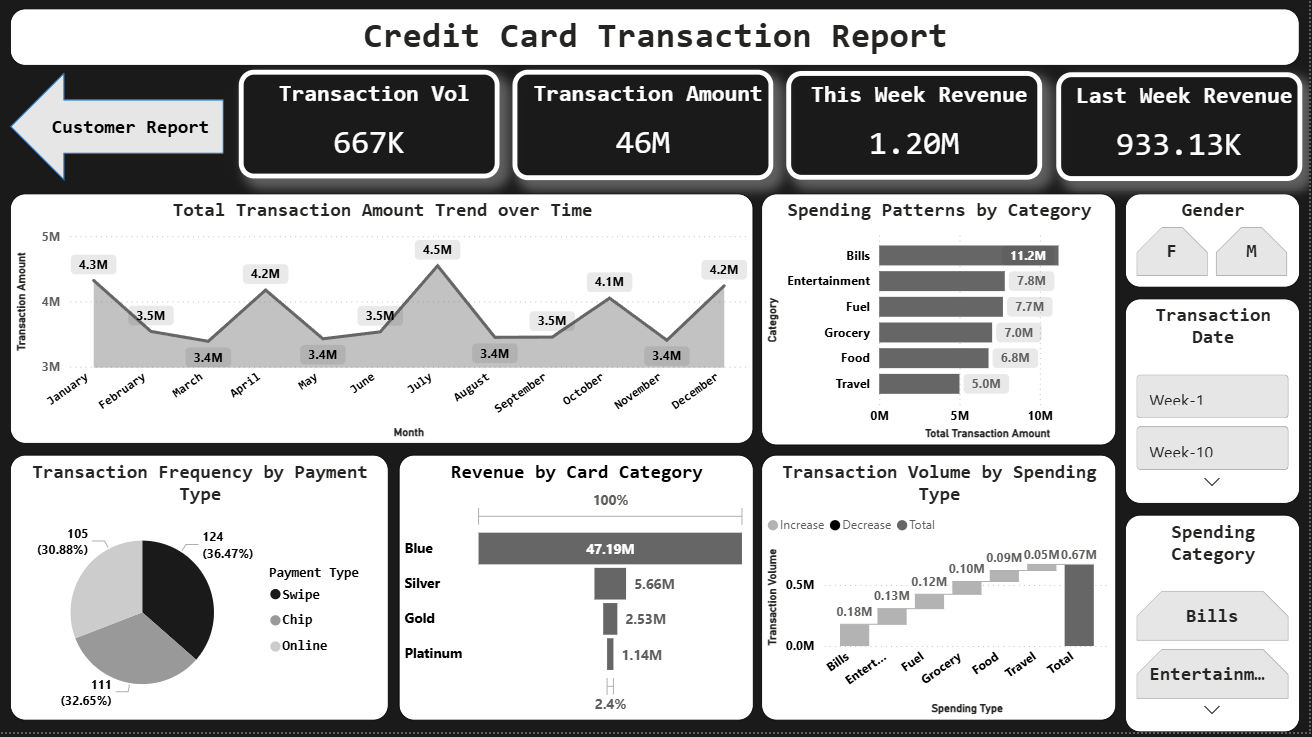

What the dashboard file says about the page in this screenshot:
{"tool":"powerbi","page":{"name":"Page 2","canvas":[1280,720],"ordinal":1},"visuals":[{"type":"textbox","title":"Credit Card Transaction Report","box":[9.8,12.8,1262,56.3],"z":0},{"type":"advancedSlicerVisual","fields":{"Values":["customer.Gender"]},"box":[1100.5,193.2,171.2,91.7],"z":1000},{"type":"card","title":"Transaction Vol","fields":{"Values":["Sum(Sheet1.Total_Trans_Vol)"]},"box":[233.6,72.1,255.6,106.4],"z":2000},{"type":"card","title":"Transaction Amount","fields":{"Values":["Sum(Sheet1.Total_Trans_Amt)"]},"box":[501.4,72.1,255.6,107.6],"z":3000},{"type":"card","title":"This Week Revenue","fields":{"Values":["Sheet1.cur_week_revenue"]},"box":[769.4,73.4,250.7,106.4],"z":4000},{"type":"card","title":"Last Week Revenue","fields":{"Values":["Sheet1.previous_week_revenue"]},"box":[1033.5,74.6,240.9,106.4],"z":5000},{"type":"advancedSlicerVisual","fields":{"Values":["Sheet1.Week_Num"]},"box":[1100.5,295.9,171.2,200.5],"z":6000},{"type":"advancedSlicerVisual","fields":{"Values":["Sheet1.Exp Type"]},"box":[1100.5,507.2,171.1,213],"z":7000},{"type":"shape","box":[9.8,74.6,209.1,106.4],"z":8000},{"type":"lineChart","title":"Total Transaction Amount Trend over Time","fields":{"Category":["Sheet1.Week_Start_Date.Variation.Date Hierarchy.Month"],"Y":["Sum(Sheet1.Total_Trans_Amt)"]},"box":[9.8,193.3,727.5,245],"z":9000},{"type":"pieChart","fields":{"Category":["Sheet1.Use Chip"],"Y":["Count(Sheet1.Total_Trans_Vol)"]},"box":[9.8,449.3,370.5,259.7],"z":10000},{"type":"funnel","fields":{"Category":["Sheet1.Card_Category"],"Y":["Sheet1.Total Revenue"]},"box":[390.2,449.3,347.1,259.7],"z":11000},{"type":"waterfallChart","fields":{"Category":["Sheet1.Exp Type"],"Y":["Sum(Sheet1.Total_Trans_Vol)"]},"box":[744.8,449.3,347.1,259.7],"z":12000},{"type":"barChart","title":"Spending Patterns by Category","fields":{"Category":["Sheet1.Exp Type"],"Y":["Sum(Sheet1.Total_Trans_Amt)"]},"box":[744.8,193.3,347.1,246.2],"z":13000}]}

Visuals, with their boxes in screenshot pixels (x1, y1, x2, y2), scaled from the page's 1280x720 canvas onto the 1312x737 screenshot:
"Credit Card Transaction Report" textbox: {"x1": 10, "y1": 13, "x2": 1304, "y2": 71}
advancedSlicerVisual - customer.Gender: {"x1": 1128, "y1": 198, "x2": 1303, "y2": 292}
"Transaction Vol" card: {"x1": 239, "y1": 74, "x2": 501, "y2": 183}
"Transaction Amount" card: {"x1": 514, "y1": 74, "x2": 776, "y2": 184}
"This Week Revenue" card: {"x1": 789, "y1": 75, "x2": 1046, "y2": 184}
"Last Week Revenue" card: {"x1": 1059, "y1": 76, "x2": 1306, "y2": 185}
advancedSlicerVisual - Sheet1.Week_Num: {"x1": 1128, "y1": 303, "x2": 1303, "y2": 508}
advancedSlicerVisual - Sheet1.Exp Type: {"x1": 1128, "y1": 519, "x2": 1303, "y2": 736}
shape: {"x1": 10, "y1": 76, "x2": 224, "y2": 185}
"Total Transaction Amount Trend over Time" lineChart: {"x1": 10, "y1": 198, "x2": 756, "y2": 449}
pieChart - Sheet1.Use Chip x Count(Sheet1.Total_Trans_Vol): {"x1": 10, "y1": 460, "x2": 390, "y2": 726}
funnel - Sheet1.Card_Category x Sheet1.Total Revenue: {"x1": 400, "y1": 460, "x2": 756, "y2": 726}
waterfallChart - Sheet1.Exp Type x Sum(Sheet1.Total_Trans_Vol): {"x1": 763, "y1": 460, "x2": 1119, "y2": 726}
"Spending Patterns by Category" barChart: {"x1": 763, "y1": 198, "x2": 1119, "y2": 450}
